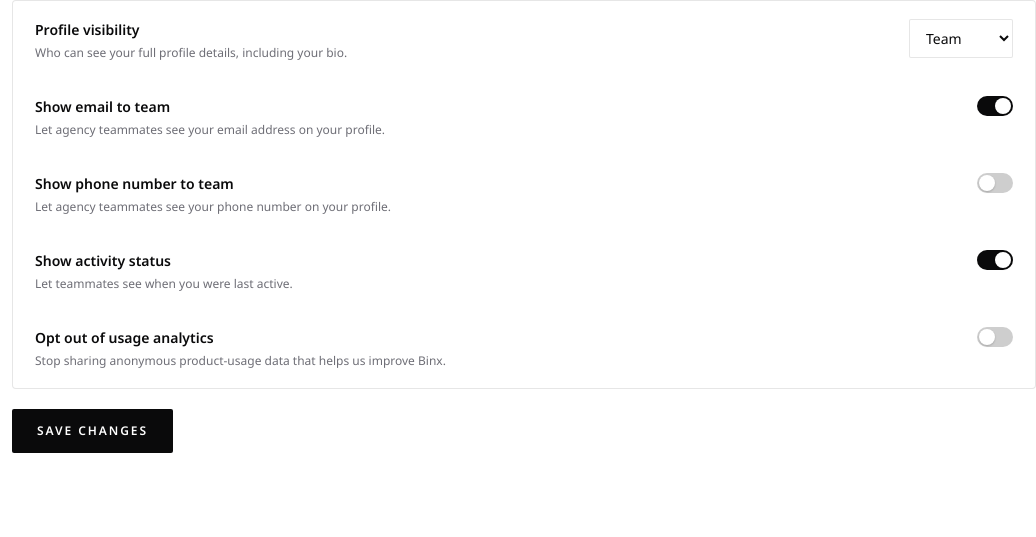
PrivacySettingsForm › saves the selected visibility and every toggle's current value
Select "Private" in the dropdown named "Profile visibility" at (961, 38), box [909,19,1013,58]
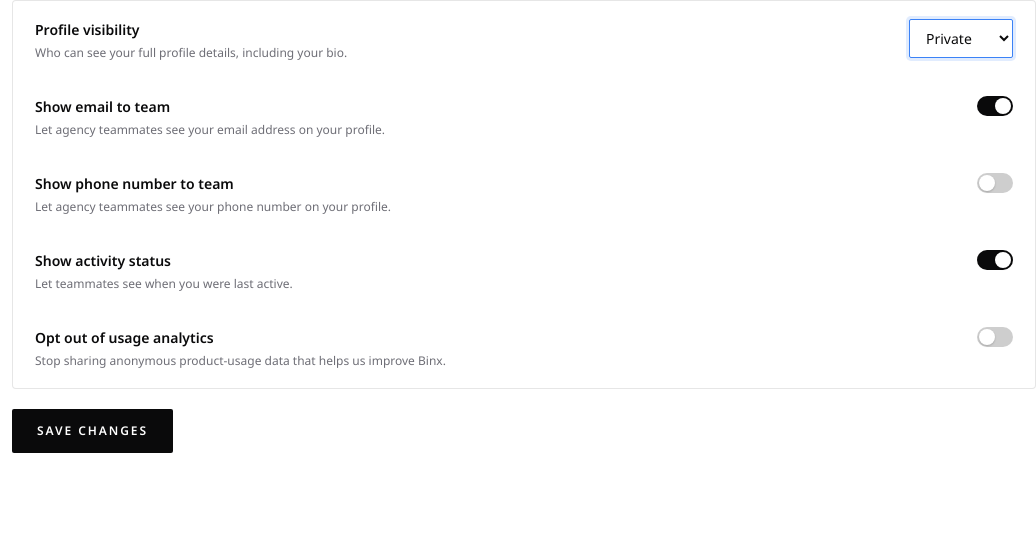
Click the switch named "Show phone number to team" at (995, 183), box [977,173,1013,193]
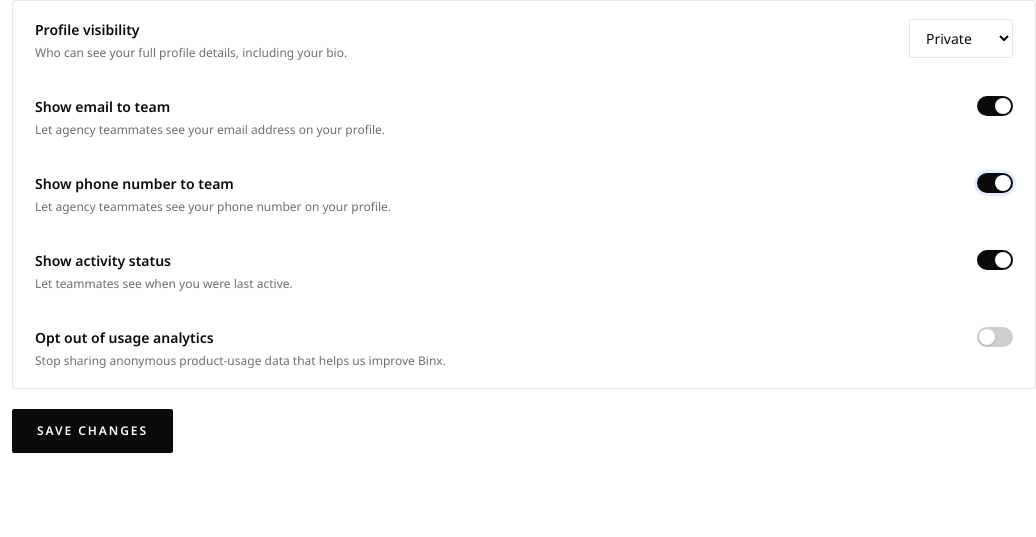
Click the button "Save changes" at (92, 431), box [12,409,173,453]
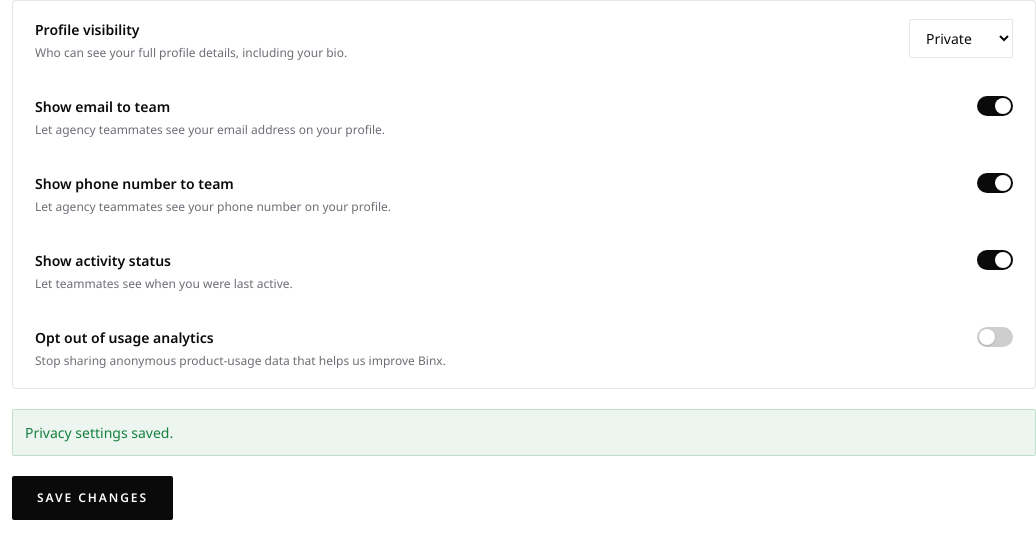
Now the text "Privacy settings saved." is shown, box [12,409,1035,456]
